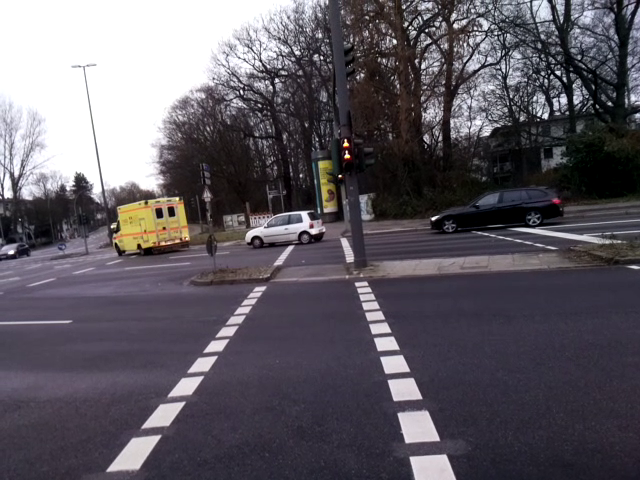car: (429, 181, 569, 232), (243, 212, 328, 246)
